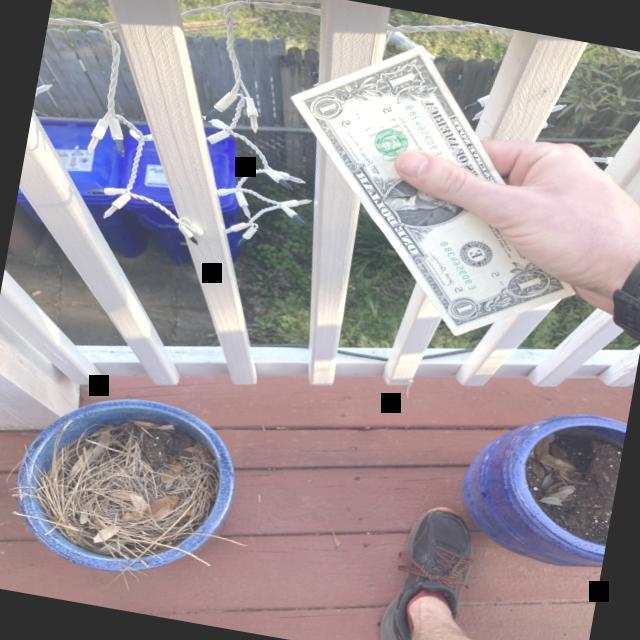one: (287, 47, 575, 337)
